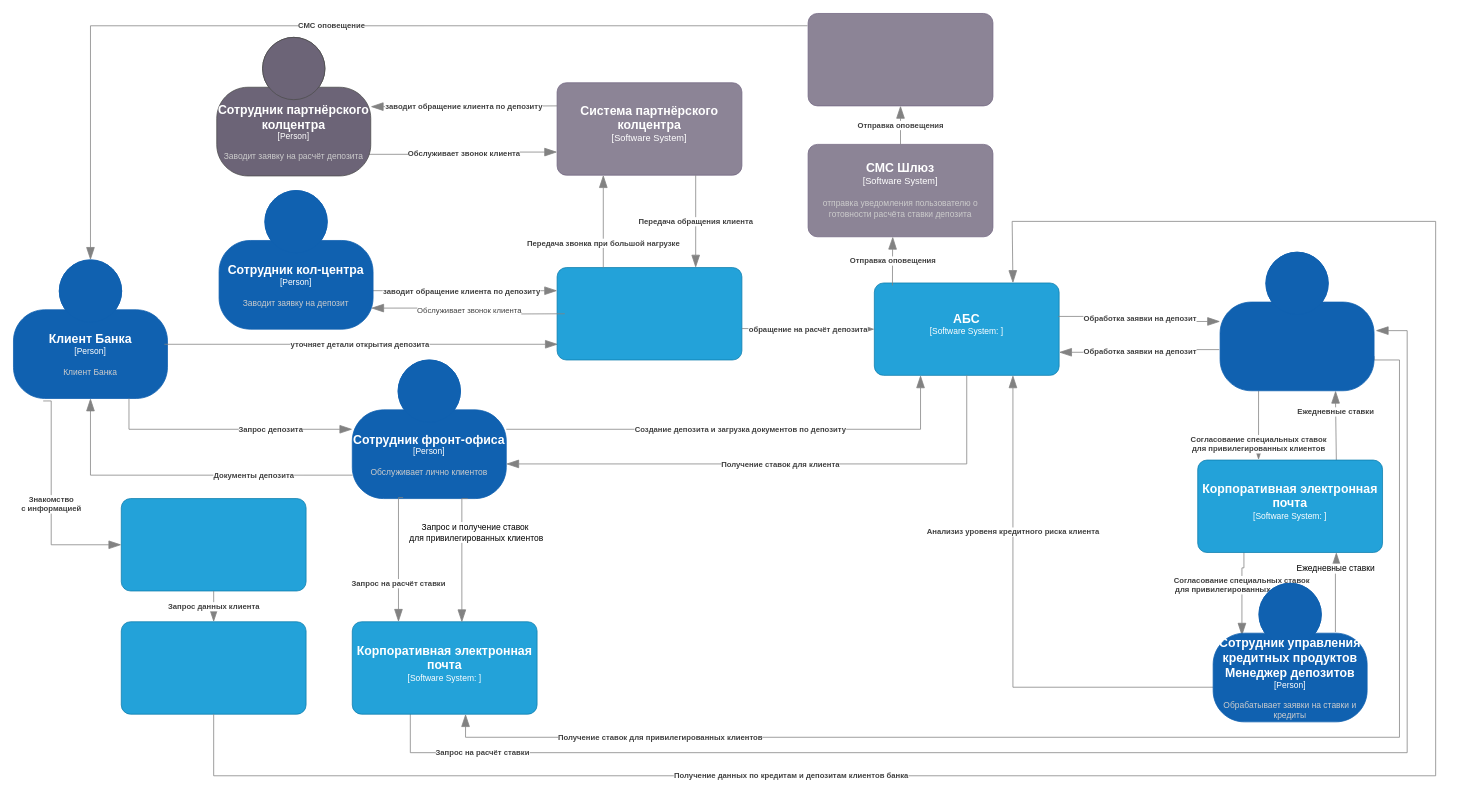
Image size: 1461x802. Some labels were removed from this diagram. The box of each missing label's shape, as (x1, y1, x2, y2) in pixels:
Интернет-банк [Software System: ]: (121, 621, 306, 714)
Менеджер депозитов [Person] Обрабатывает заявки на депозиты: (1219, 251, 1374, 391)
Сайт [Software System: ] Отображения информационных материалов: (121, 498, 306, 591)
Система колл-центра [Software System: ]: (556, 267, 742, 360)
Телеком оператор [Software System] Отправка СМС: (807, 13, 993, 106)
